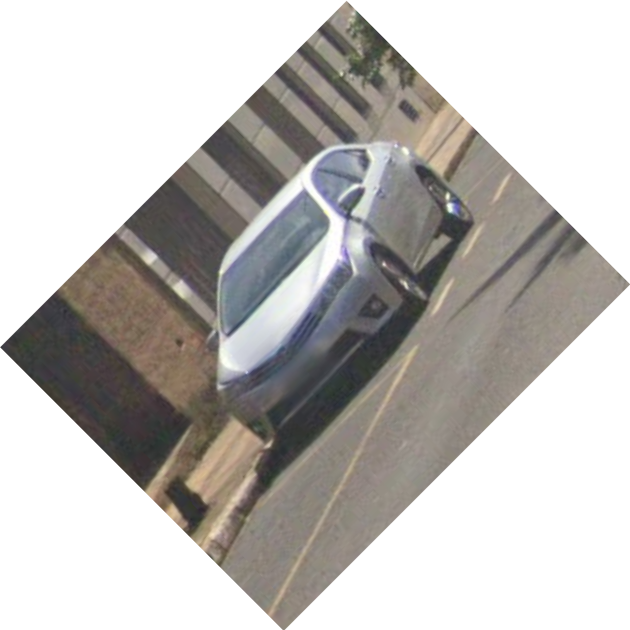car: (211, 135, 470, 443)
